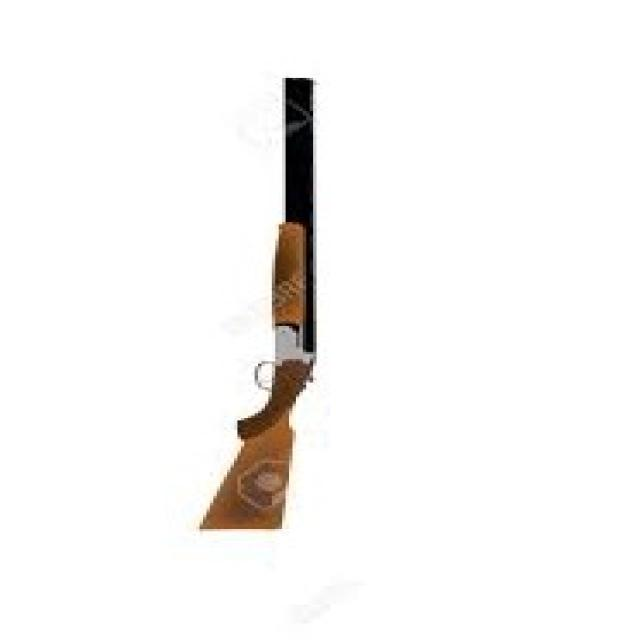rifle: (196, 73, 326, 537)
